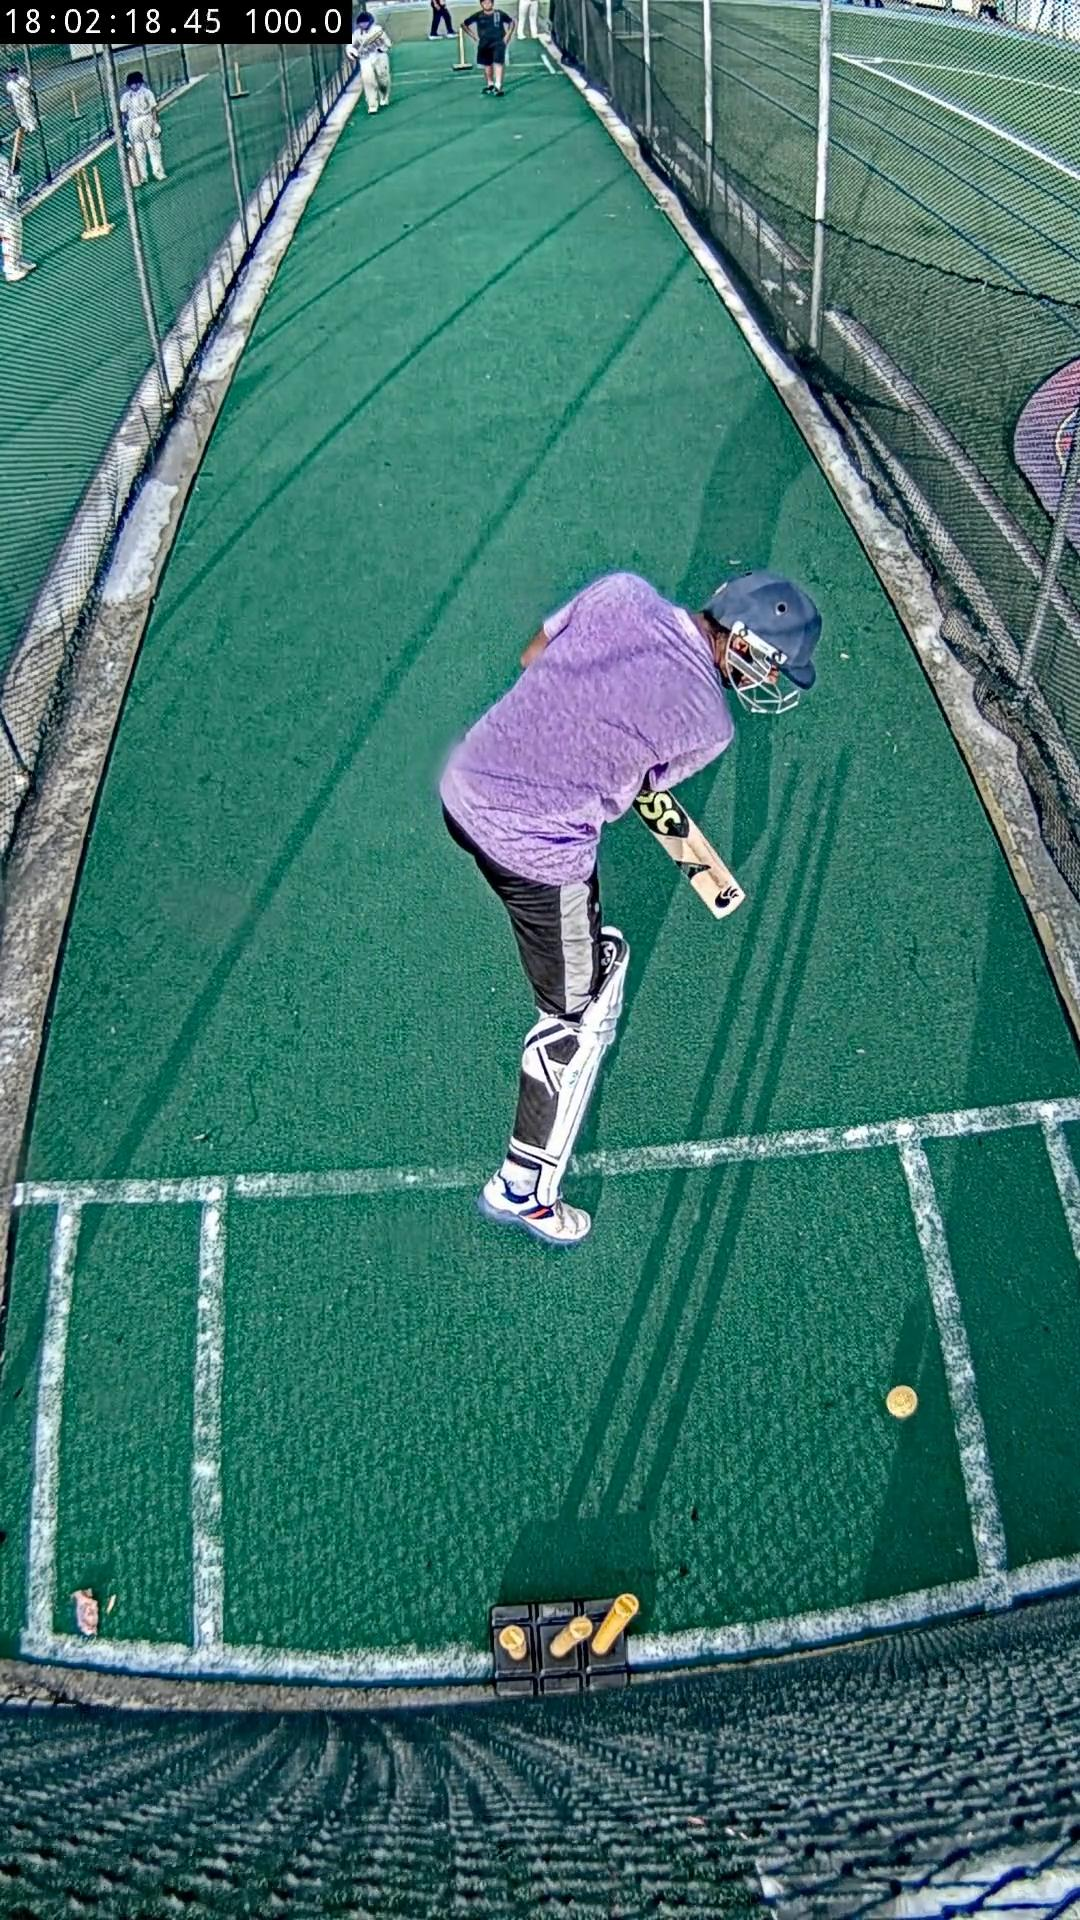ball: (885, 1383, 919, 1418)
bat: (634, 787, 746, 919)
helmet: (705, 570, 822, 690)
pads: (537, 926, 630, 1204)
stumps: (492, 1594, 641, 1693)
